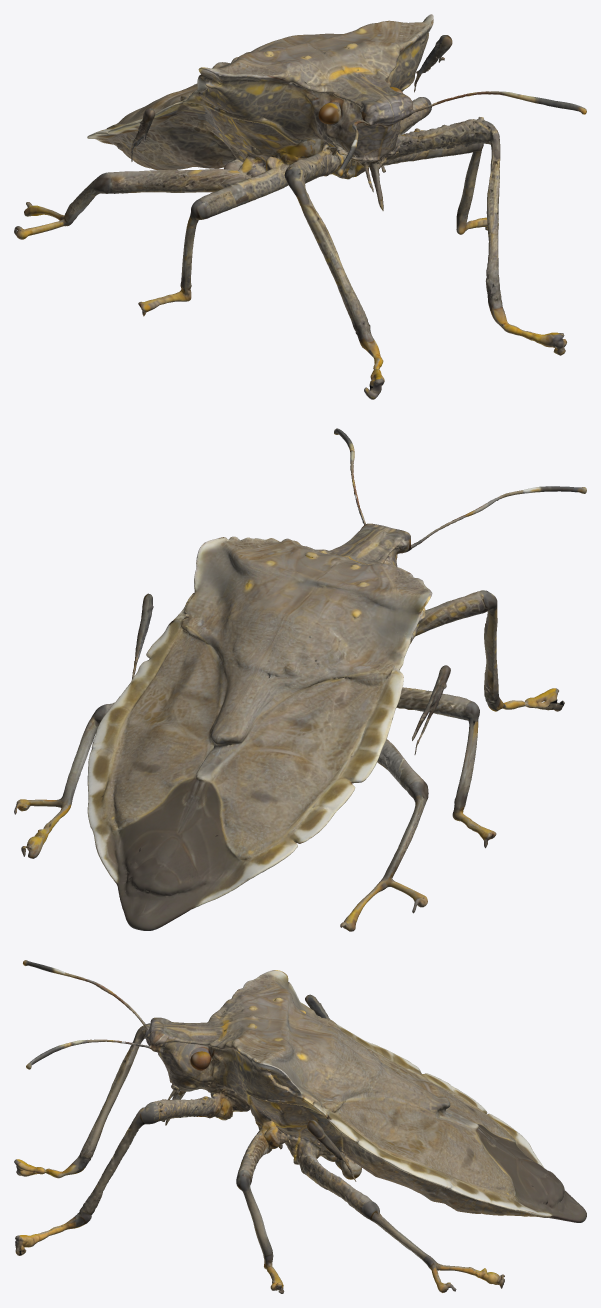
Rendered from heteroptera_new.glb.
3 renders of one model, top to bottom at view 1: azimuth 30°, elevation 25°; view 2: azimuth 150°, elevation 25°; view 3: azimuth 270°, elevation 25°, orthographic. The views are drawn at different scales.
Parts seen in each view (by area): view 1: Mesh_0; view 2: Mesh_0; view 3: Mesh_0.
Boxes of the visible parts, left/top/right/bottom form: Mesh_0: left=14, top=14, right=586, bottom=399; Mesh_0: left=14, top=428, right=586, bottom=931; Mesh_0: left=14, top=960, right=586, bottom=1293.
Bounding box in the file's own units: 1.41 × 0.8164 × 1.97.
1 material, 1 textured.
